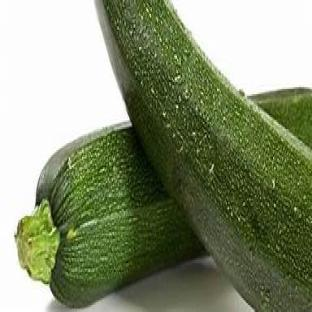Zucchini: (17, 124, 203, 306), (252, 88, 311, 146)
